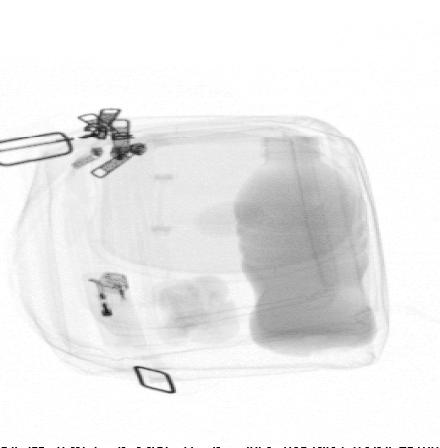Lighter: (82, 271, 148, 347)
